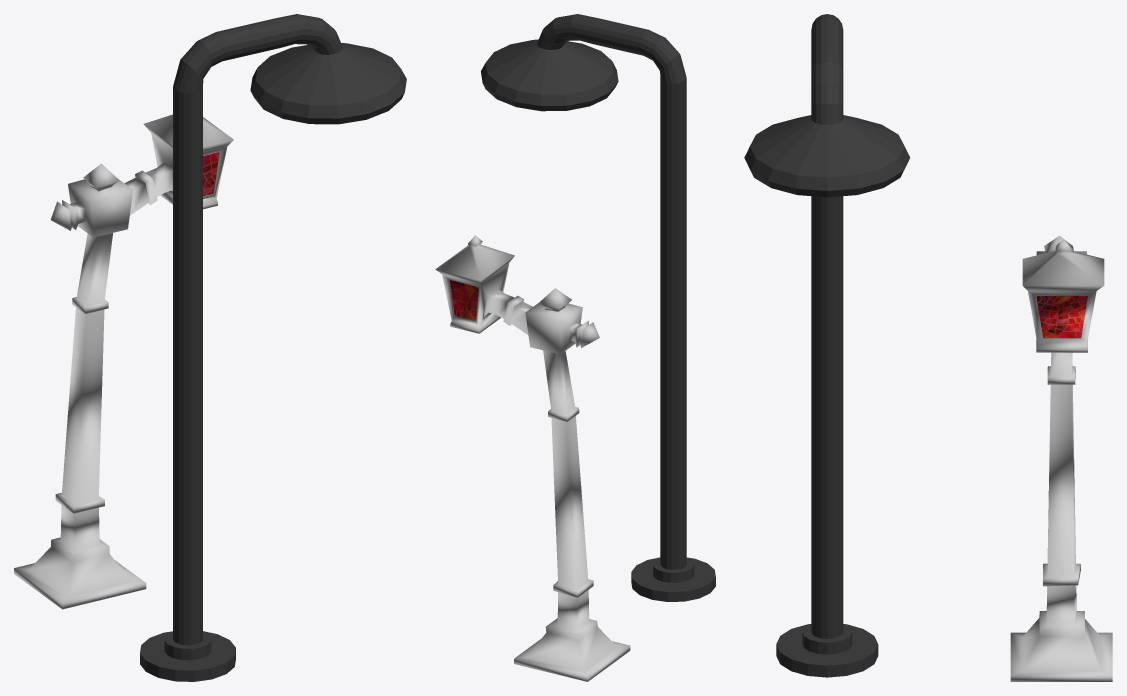
The model's file is lamp.obj.
3 views of the same model, side by side, from view 1: azimuth 30°, elevation 25°; view 2: azimuth 150°, elevation 25°; view 3: azimuth 270°, elevation 25° (orthographic). The views are drawn at different scales.
Visible parts, largest first — view 1: Circle_Circle.001, Cube.001_Cube.002; view 2: Circle_Circle.001, Cube.001_Cube.002; view 3: Circle_Circle.001, Cube.001_Cube.002.
Boxes of the visible parts, x1,y1,x2,y2 form: Circle_Circle.001: [140, 14, 406, 681]; Cube.001_Cube.002: [14, 114, 233, 609]; Circle_Circle.001: [481, 14, 715, 601]; Cube.001_Cube.002: [435, 235, 630, 681]; Circle_Circle.001: [744, 14, 910, 677]; Cube.001_Cube.002: [1010, 235, 1112, 681].
Size of the model in its own units: 5.98 by 14.2 by 7.23.
